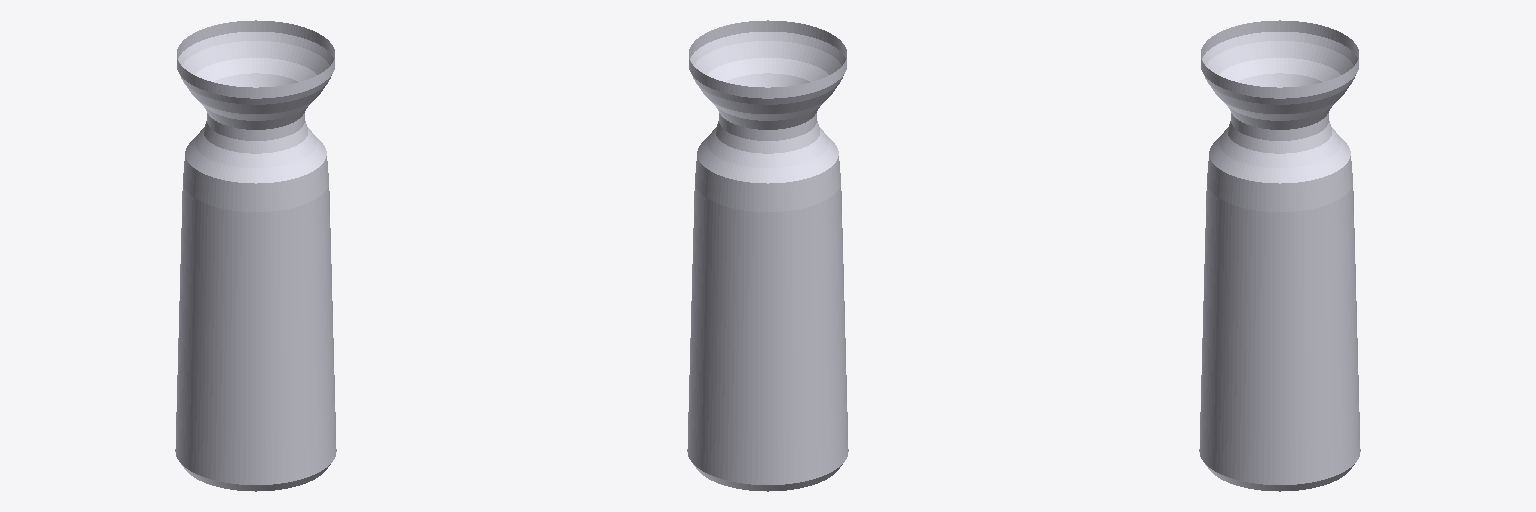
URDF robot description (vial_2ml):
<?xml version="1.0"?>
<robot name="vial_2ml">
  <link name="base_link">
    <inertial>
      <origin xyz="0 0 0" rpy="0 0 0"/>
      <mass value="0.020"/>
      <inertia ixx="1.25e-6" ixy="0" ixz="0" iyy="1.25e-6" iyz="0" izz="4.225e-7"/>
    </inertial>
    <visual>
      <origin xyz="0 0 0" rpy="0 0 0"/>
      <geometry>
        <mesh filename="vial_2ml.stl" scale="1.0 1.0 1.0"/>
      </geometry>
      <material name="clear_plastic">
        <color rgba="0.9 0.9 0.95 0.3"/>
      </material>
    </visual>
    <collision>
      <origin xyz="0 0 0" rpy="0 0 0"/>
      <geometry>
        <mesh filename="vial_2ml.stl" scale="1.0 1.0 1.0"/>
      </geometry>
    </collision>
  </link>
</robot>

--- What the picture shows (computed from the rendered views, not written in the file) ---
3 views of the same robot in one strip: view 1: azimuth 30°, elevation 25°; view 2: azimuth 150°, elevation 25°; view 3: azimuth 270°, elevation 25° (orthographic).
Model vial_2ml with 1 links and 0 joints (none), rooted at base_link, posed every joint at zero.
Visible links, largest first — view 1: base_link; view 2: base_link; view 3: base_link.
Link boxes in pixels (x1=…): base_link: x1=175, y1=20, x2=336, y2=491; base_link: x1=687, y1=20, x2=848, y2=491; base_link: x1=1199, y1=20, x2=1360, y2=491.
Bounding box of the posed robot: 0.0132 × 0.0132 × 0.0375 m (x, y, z).
Meshes: 1 distinct files referenced, 1 mesh visuals loaded (1 ASCII STL).
